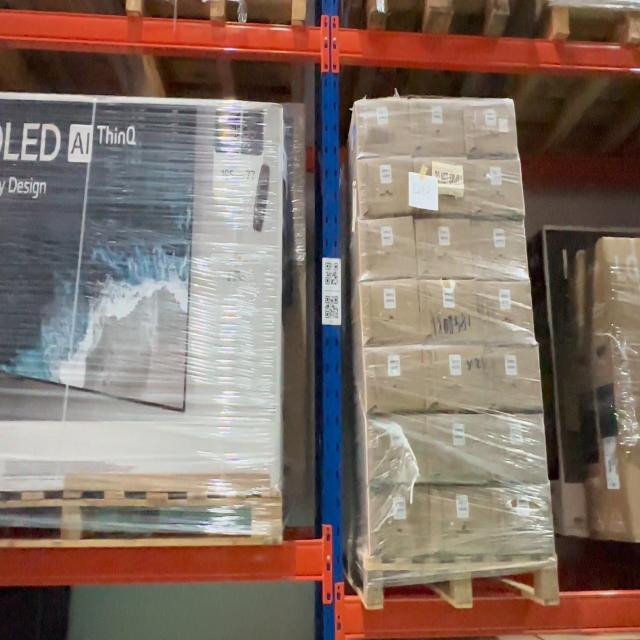box: (369, 487, 426, 553), (429, 491, 492, 550), (427, 420, 488, 478), (424, 350, 482, 410), (496, 491, 550, 552), (368, 422, 423, 478), (420, 284, 477, 338), (364, 285, 417, 341), (413, 161, 468, 214), (368, 354, 419, 410), (494, 420, 543, 478), (474, 223, 526, 277), (362, 223, 413, 277), (481, 284, 532, 338), (490, 349, 540, 404), (412, 102, 464, 154), (418, 222, 471, 273), (357, 104, 410, 154), (360, 160, 410, 212), (472, 163, 522, 211), (466, 104, 515, 151)
